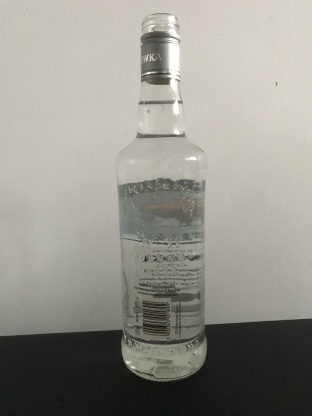nakretka: (138, 11, 182, 84)
